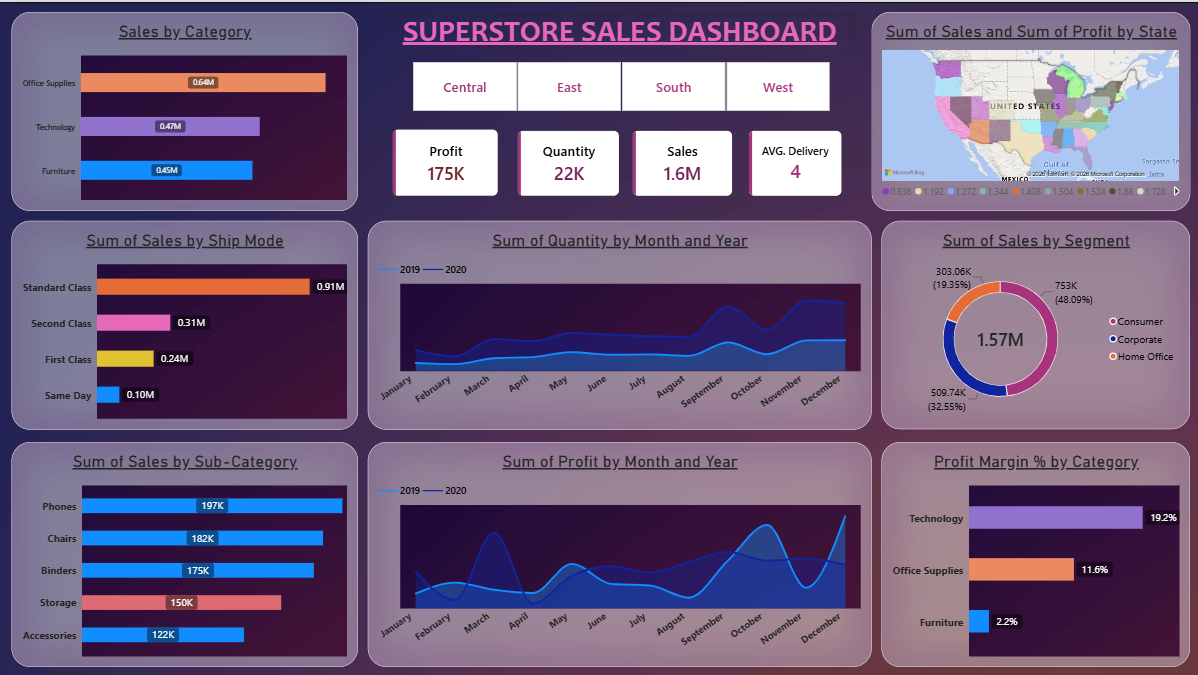

This screenshot's page, from the dashboard's own definition file:
{"tool":"powerbi","page":{"name":"Page 1","canvas":[1920,1080],"ordinal":0},"visuals":[{"type":"textbox","box":[614,16,758,70],"z":0},{"type":"clusteredBarChart","title":"Sales by Category","fields":{"Category":["SuperStore_Sales_Dataset.Category"],"Y":["Sum(SuperStore_Sales_Dataset.Sales)"]},"box":[20,16,554,318],"z":1000},{"type":"clusteredBarChart","fields":{"Category":["SuperStore_Sales_Dataset.Ship Mode"],"Y":["Sum(SuperStore_Sales_Dataset.Sales)"]},"box":[20,350,554,334],"z":2000},{"type":"clusteredBarChart","fields":{"Category":["SuperStore_Sales_Dataset.Sub-Category"],"Y":["Sum(SuperStore_Sales_Dataset.Sales)"]},"box":[20,704,554,360],"z":3000},{"type":"stackedAreaChart","fields":{"Category":["SuperStore_Sales_Dataset.Order Date.Variation.Date Hierarchy.Month"],"Series":["SuperStore_Sales_Dataset.Order Date.Variation.Date Hierarchy.Year"],"Y":["Sum(SuperStore_Sales_Dataset.Quantity)"]},"box":[590,350,806,334],"z":4000},{"type":"areaChart","fields":{"Category":["SuperStore_Sales_Dataset.Order Date.Variation.Date Hierarchy.Month"],"Series":["SuperStore_Sales_Dataset.Order Date.Variation.Date Hierarchy.Year"],"Y":["Sum(SuperStore_Sales_Dataset.Profit)"]},"box":[590,704,806,360],"z":5000},{"type":"donutChart","fields":{"Category":["SuperStore_Sales_Dataset.Segment"],"Y":["Sum(SuperStore_Sales_Dataset.Sales)"]},"box":[1412,349.9,494,333.4],"z":6000},{"type":"clusteredBarChart","fields":{"Category":["SuperStore_Sales_Dataset.Category"],"Y":["SuperStore_Sales_Dataset.Profit Margin %"]},"box":[1412,703.9,494,360.2],"z":7000},{"type":"slicer","fields":{"Values":["SuperStore_Sales_Dataset.Region"]},"box":[642,94,706,82],"z":8000},{"type":"cardVisual","fields":{"Data":["Sum(SuperStore_Sales_Dataset.Profit)"]},"box":[629.8,204.5,168.3,106.8],"z":9000},{"type":"cardVisual","fields":{"Data":["Sum(SuperStore_Sales_Dataset.Quantity)"]},"box":[830.6,206.3,162.9,105],"z":10000},{"type":"cardVisual","fields":{"Data":["Sum(SuperStore_Sales_Dataset.Sales)"]},"box":[1013.4,206.3,159.3,105],"z":11000},{"type":"cardVisual","fields":{"Data":["Avg(SuperStore_Sales_Dataset.Ave_Delivery)"]},"box":[1199.8,206.3,148.4,105],"z":12000},{"type":"filledMap","title":"Sum of Sales and Sum of Profit by State","fields":{"Category":["SuperStore_Sales_Dataset.State"],"Series":["SuperStore_Sales_Dataset.Sales"]},"box":[1395.2,16.3,510.3,318.5],"z":13000}]}

Visuals, with their boxes in screenshot pixels (x1, y1, x2, y2), scaled from the page's 1920x1080 canvas onto the 1198x675 screenshot:
textbox: bbox=(383, 10, 856, 54)
"Sales by Category" clusteredBarChart: bbox=(12, 10, 358, 209)
clusteredBarChart - SuperStore_Sales_Dataset.Ship Mode x Sum(SuperStore_Sales_Dataset.Sales): bbox=(12, 219, 358, 428)
clusteredBarChart - SuperStore_Sales_Dataset.Sub-Category x Sum(SuperStore_Sales_Dataset.Sales): bbox=(12, 440, 358, 665)
stackedAreaChart - SuperStore_Sales_Dataset.Order Date.Variation.Date Hierarchy.Month x SuperStore_Sales_Dataset.Order Date.Variation.Date Hierarchy.Year: bbox=(368, 219, 871, 428)
areaChart - SuperStore_Sales_Dataset.Order Date.Variation.Date Hierarchy.Month x SuperStore_Sales_Dataset.Order Date.Variation.Date Hierarchy.Year: bbox=(368, 440, 871, 665)
donutChart - SuperStore_Sales_Dataset.Segment x Sum(SuperStore_Sales_Dataset.Sales): bbox=(881, 219, 1189, 427)
clusteredBarChart - SuperStore_Sales_Dataset.Category x SuperStore_Sales_Dataset.Profit Margin %: bbox=(881, 440, 1189, 665)
slicer - SuperStore_Sales_Dataset.Region: bbox=(401, 59, 841, 110)
cardVisual - Sum(SuperStore_Sales_Dataset.Profit): bbox=(393, 128, 498, 195)
cardVisual - Sum(SuperStore_Sales_Dataset.Quantity): bbox=(518, 129, 620, 195)
cardVisual - Sum(SuperStore_Sales_Dataset.Sales): bbox=(632, 129, 732, 195)
cardVisual - Avg(SuperStore_Sales_Dataset.Ave_Delivery): bbox=(749, 129, 841, 195)
"Sum of Sales and Sum of Profit by State" filledMap: bbox=(871, 10, 1189, 209)
